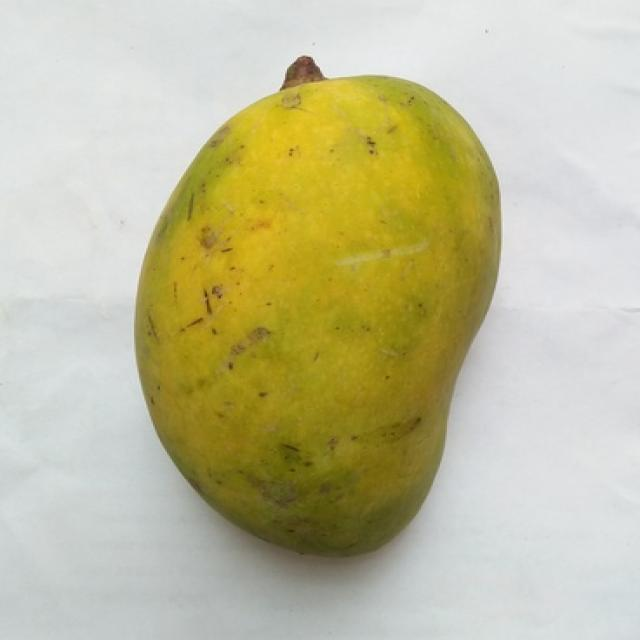Mango: (136, 63, 496, 554)
